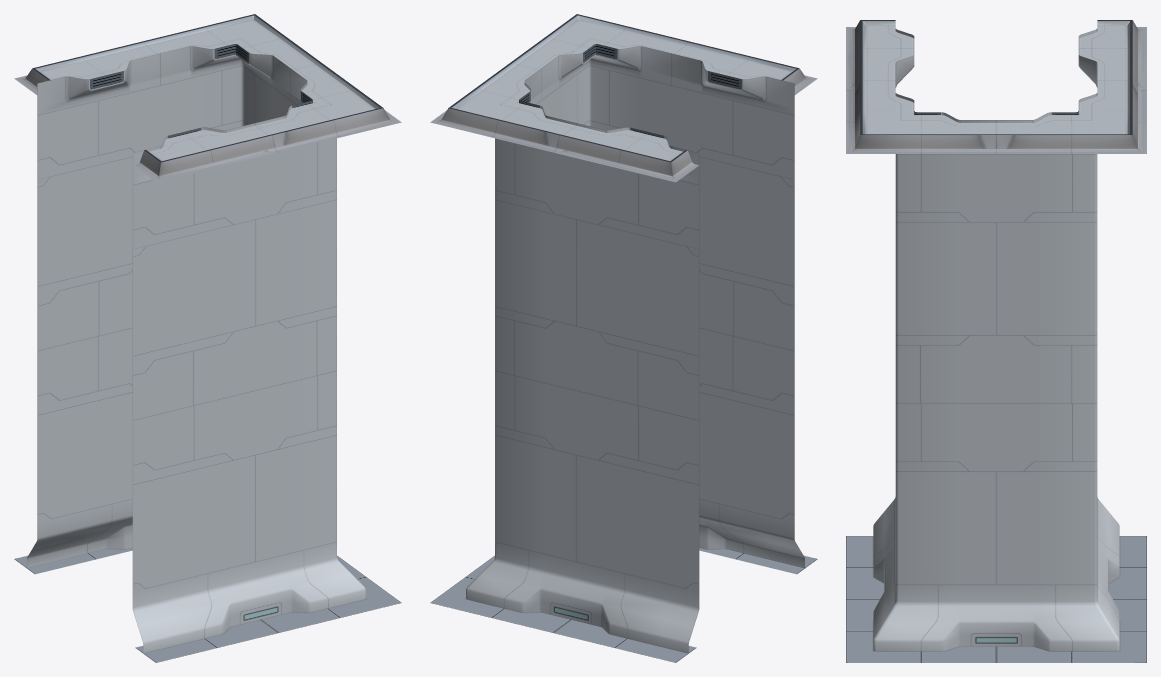
File: Room_A_4m_corner_return_tall.fbx
The picture shows the model from 3 angles, left to right: view 1: azimuth 30°, elevation 25°; view 2: azimuth 150°, elevation 25°; view 3: azimuth 270°, elevation 25°; orthographic projection. The views are drawn at different scales.
Parts seen in each view (by area): view 1: Room_A_4m_corner_return_tall; view 2: Room_A_4m_corner_return_tall; view 3: Room_A_4m_corner_return_tall.
Boxes of the visible parts, x1,y1,x2,y2 form: Room_A_4m_corner_return_tall: (14, 14, 401, 662); Room_A_4m_corner_return_tall: (430, 14, 817, 662); Room_A_4m_corner_return_tall: (846, 20, 1146, 662).
Size of the model in its own units: 400 by 766 by 400.
Materials: 3 (3 with a texture image).
